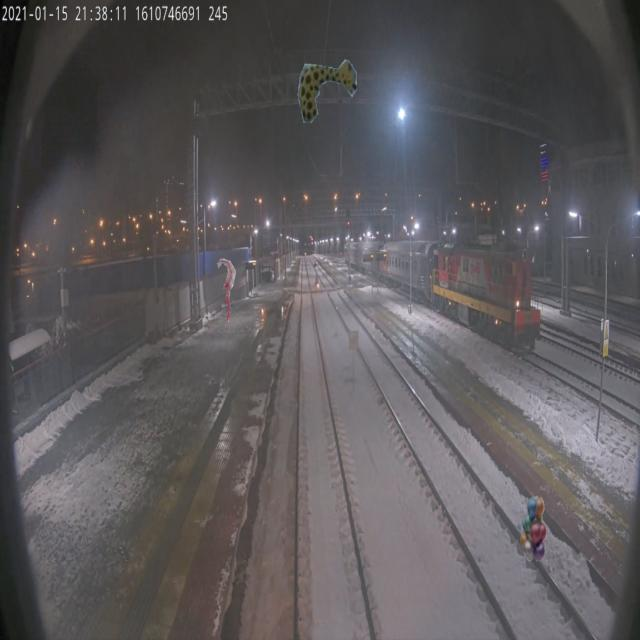balloon: (520, 497, 547, 561)
floating object: (297, 59, 357, 122), (217, 258, 236, 322)
